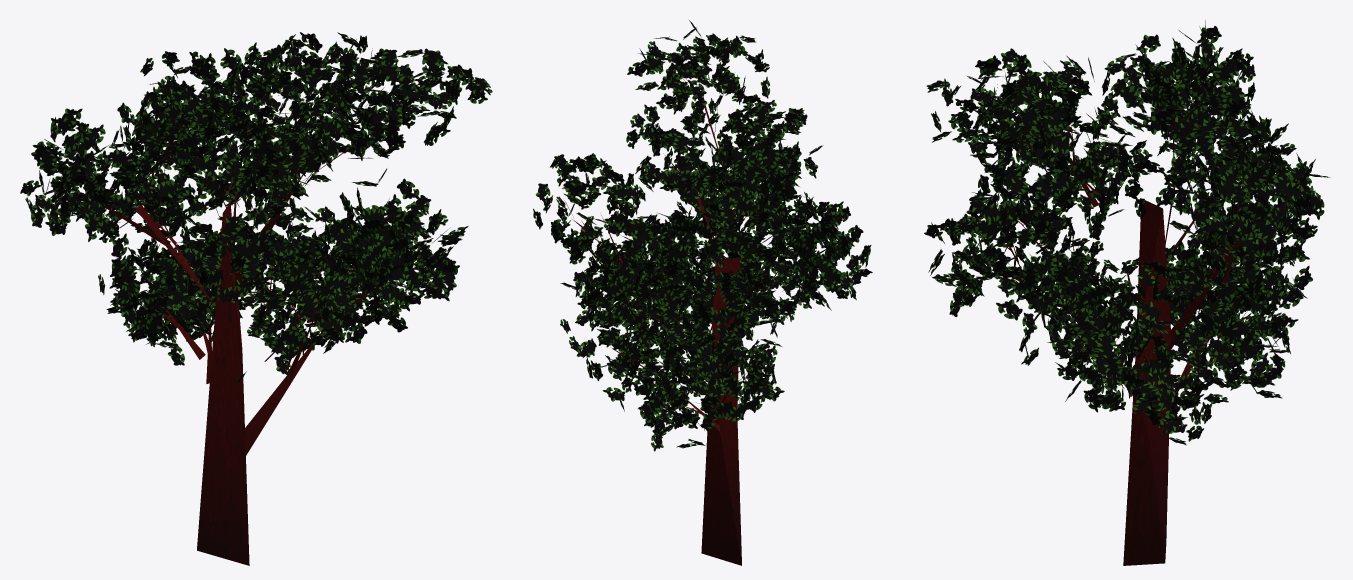
Rendered from broadleaf_giant_v01_LOD2.glb.
3 views of the same model, side by side, from view 1: azimuth 30°, elevation 25°; view 2: azimuth 150°, elevation 25°; view 3: azimuth 270°, elevation 25° (orthographic). The views are drawn at different scales.
Parts seen in each view (by area): view 1: broadleaf_giant_v01_LOD2; view 2: broadleaf_giant_v01_LOD2; view 3: broadleaf_giant_v01_LOD2.
Boxes of the visible parts, x1,y1,x2,y2 form: broadleaf_giant_v01_LOD2: (20,32,492,565); broadleaf_giant_v01_LOD2: (533,20,872,565); broadleaf_giant_v01_LOD2: (924,20,1330,565).
Size of the model in its own units: 25.18 by 31.7 by 22.18.
Materials: 2 (2 with a texture image).
